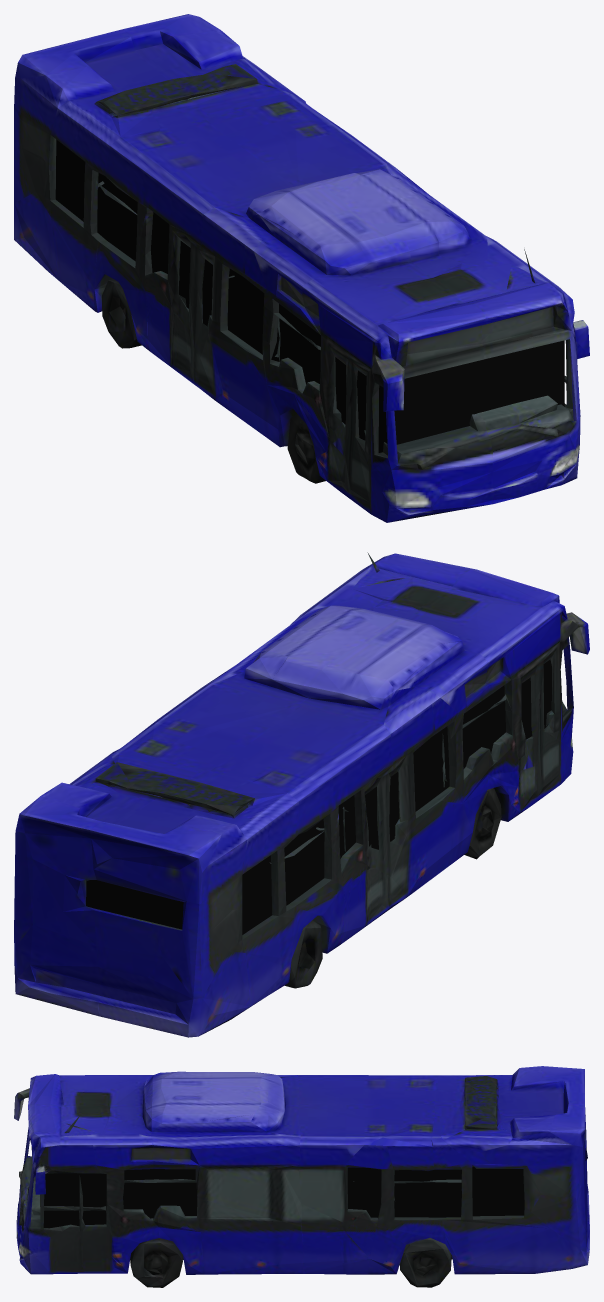
File: bus.glb
3 views of the same model, one above another, from view 1: azimuth 30°, elevation 25°; view 2: azimuth 150°, elevation 25°; view 3: azimuth 270°, elevation 25° (orthographic). The views are drawn at different scales.
Visible parts, largest first — view 1: koerper; view 2: koerper; view 3: koerper.
Part boxes in pixels (x1,y1,x2,y2): koerper: [14, 14, 589, 522]; koerper: [14, 552, 589, 1037]; koerper: [14, 1066, 589, 1287].
Size of the model in its own units: 3.83 by 3.92 by 11.97.
Materials: 1 (1 with a texture image).
